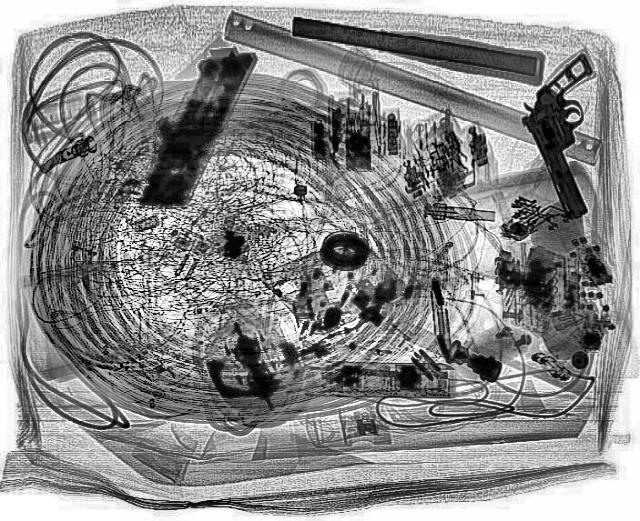Gun: (511, 54, 639, 212)
